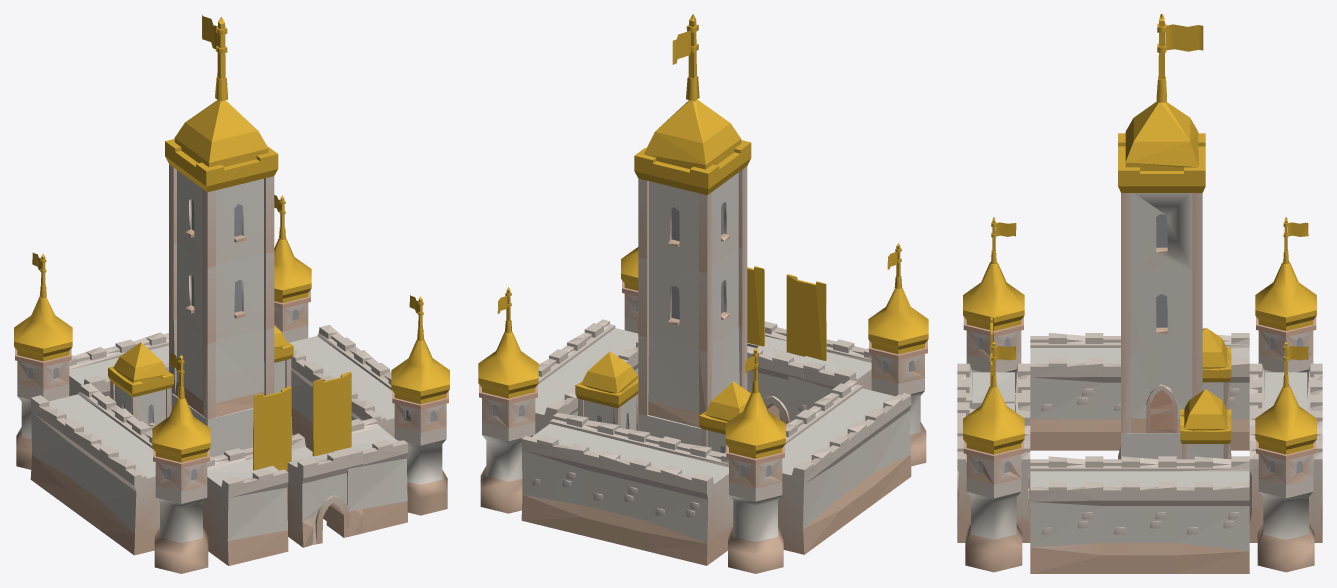
The model's file is keep_l3.glb.
3 renders of one model, left to right at view 1: azimuth 30°, elevation 25°; view 2: azimuth 150°, elevation 25°; view 3: azimuth 270°, elevation 25°, orthographic. The views are drawn at different scales.
Parts seen in each view (by area): view 1: keep_l3; view 2: keep_l3; view 3: keep_l3.
Boxes of the visible parts, left/top/right/bottom form: keep_l3: left=14, top=14, right=449, bottom=573; keep_l3: left=478, top=14, right=928, bottom=573; keep_l3: left=957, top=14, right=1322, bottom=573.
Bounding box in the file's own units: 7.5 × 10.94 × 7.5.
